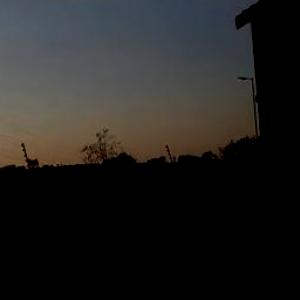follow: (90, 146, 175, 299)
